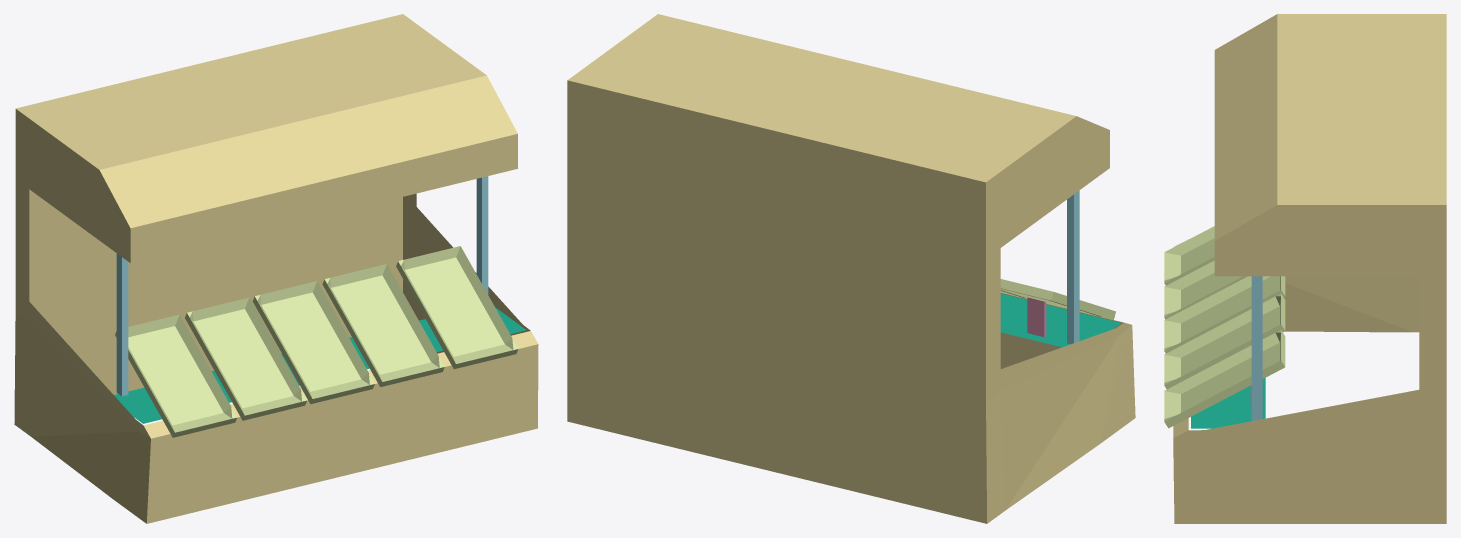
Rendered from canicas.fbx.
The picture shows the model from 3 angles, left to right: view 1: azimuth 30°, elevation 25°; view 2: azimuth 150°, elevation 25°; view 3: azimuth 270°, elevation 25°; orthographic projection. The views are drawn at different scales.
Visible parts, largest first — view 1: canicas_2_uvs; view 2: canicas_2_uvs; view 3: canicas_2_uvs.
Boxes of the visible parts, box(x1,y1,x2,y2) form: canicas_2_uvs: box(14, 14, 538, 523); canicas_2_uvs: box(567, 14, 1135, 523); canicas_2_uvs: box(1164, 14, 1446, 523).
Bounding box in the file's own units: 83.33 × 64.31 × 51.64.
